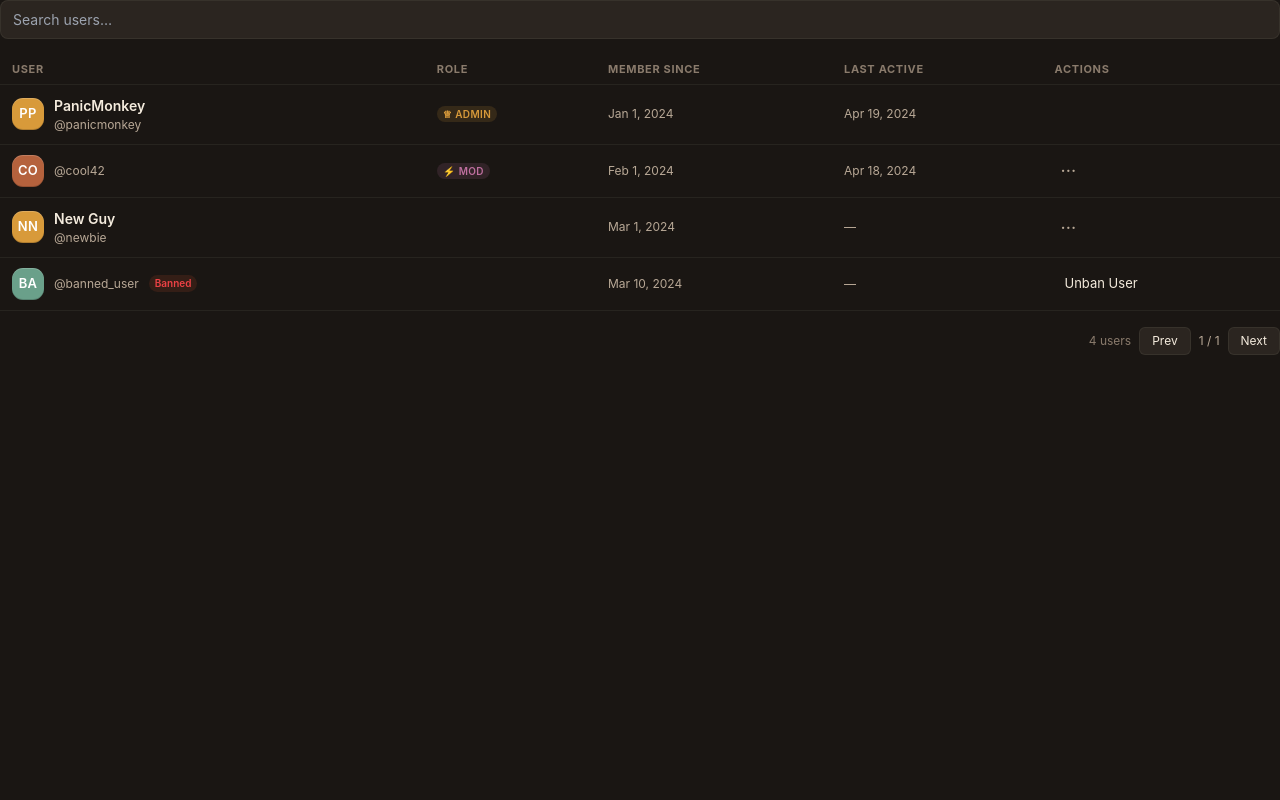
Test: UserTable — action feedback › shows a success notice after banning a user
Click the button titled "actions" in the row of "New Guy": (1068, 227) [1054,212,1082,242]
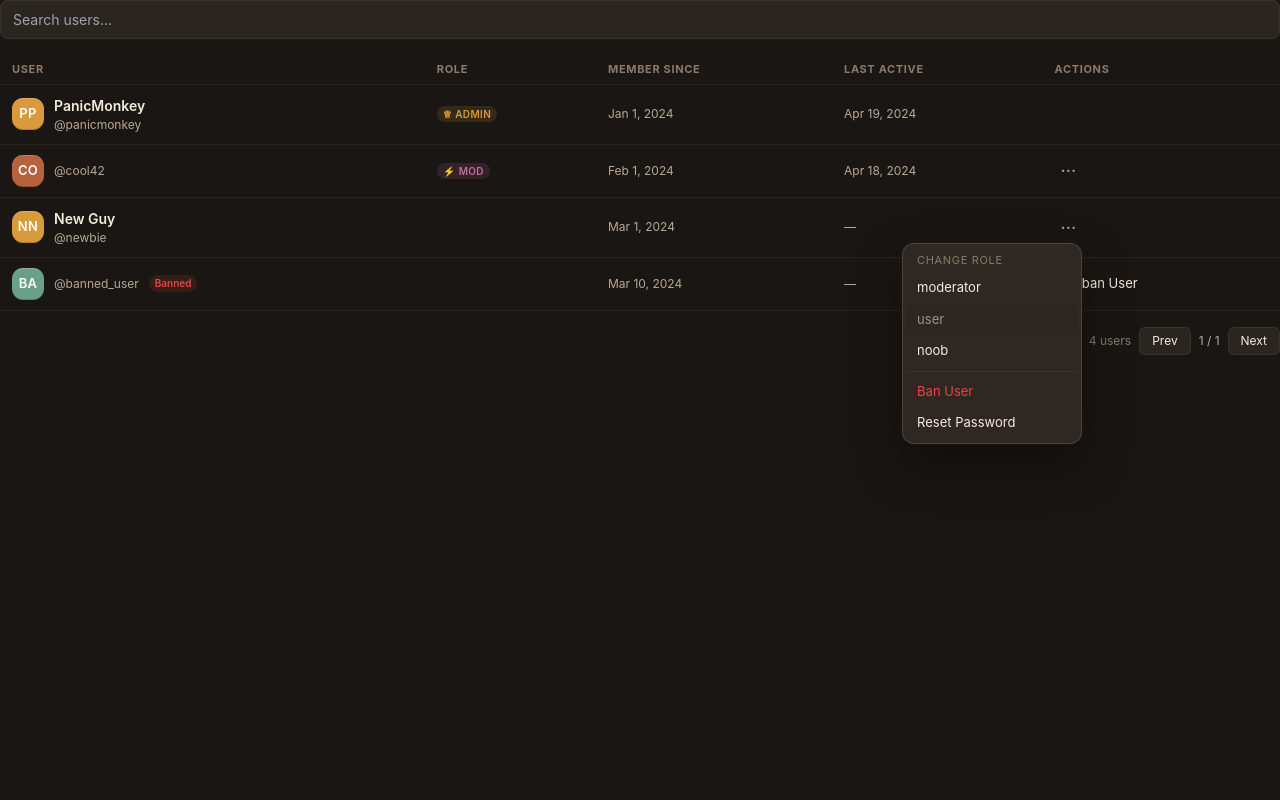
Click the button "Ban User": (992, 391) [907,376,1077,407]
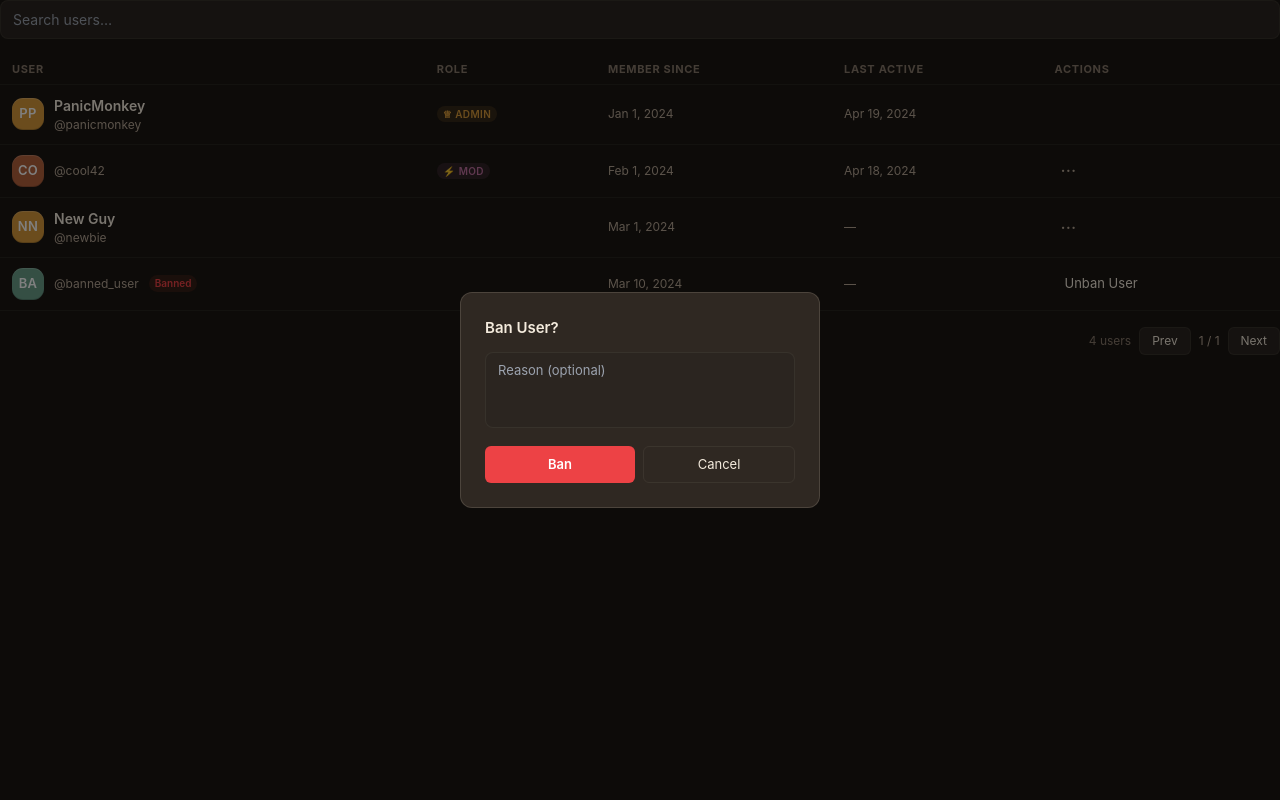
Click the button with test id "confirm-ban-user": (560, 464) [485,446,635,483]
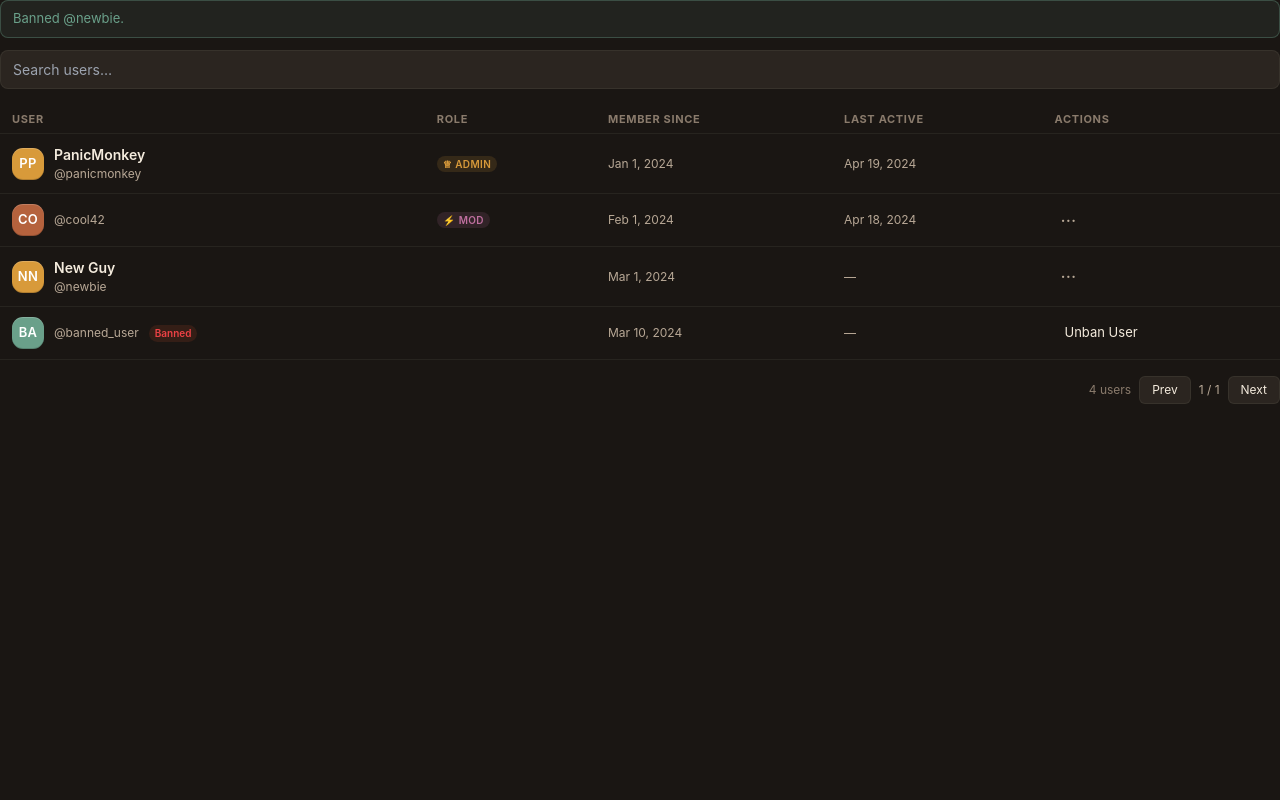
Expected: the text "Banned @newbie." is shown, [0,0,1279,38]
